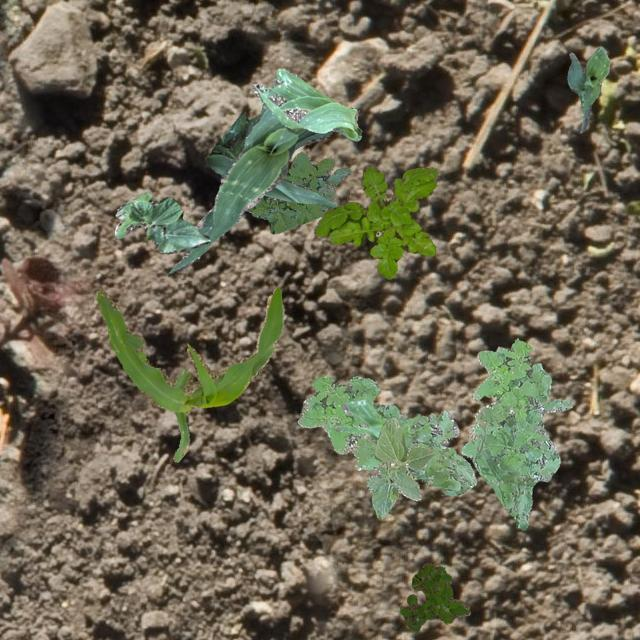crop: (96, 286, 282, 460), (168, 106, 332, 274), (205, 102, 338, 208), (252, 68, 361, 140), (366, 416, 434, 518), (332, 398, 423, 473), (114, 192, 208, 252), (566, 46, 610, 132)
weed: (296, 374, 476, 494), (460, 336, 570, 528), (314, 164, 438, 278), (246, 152, 350, 232), (400, 562, 470, 630)
